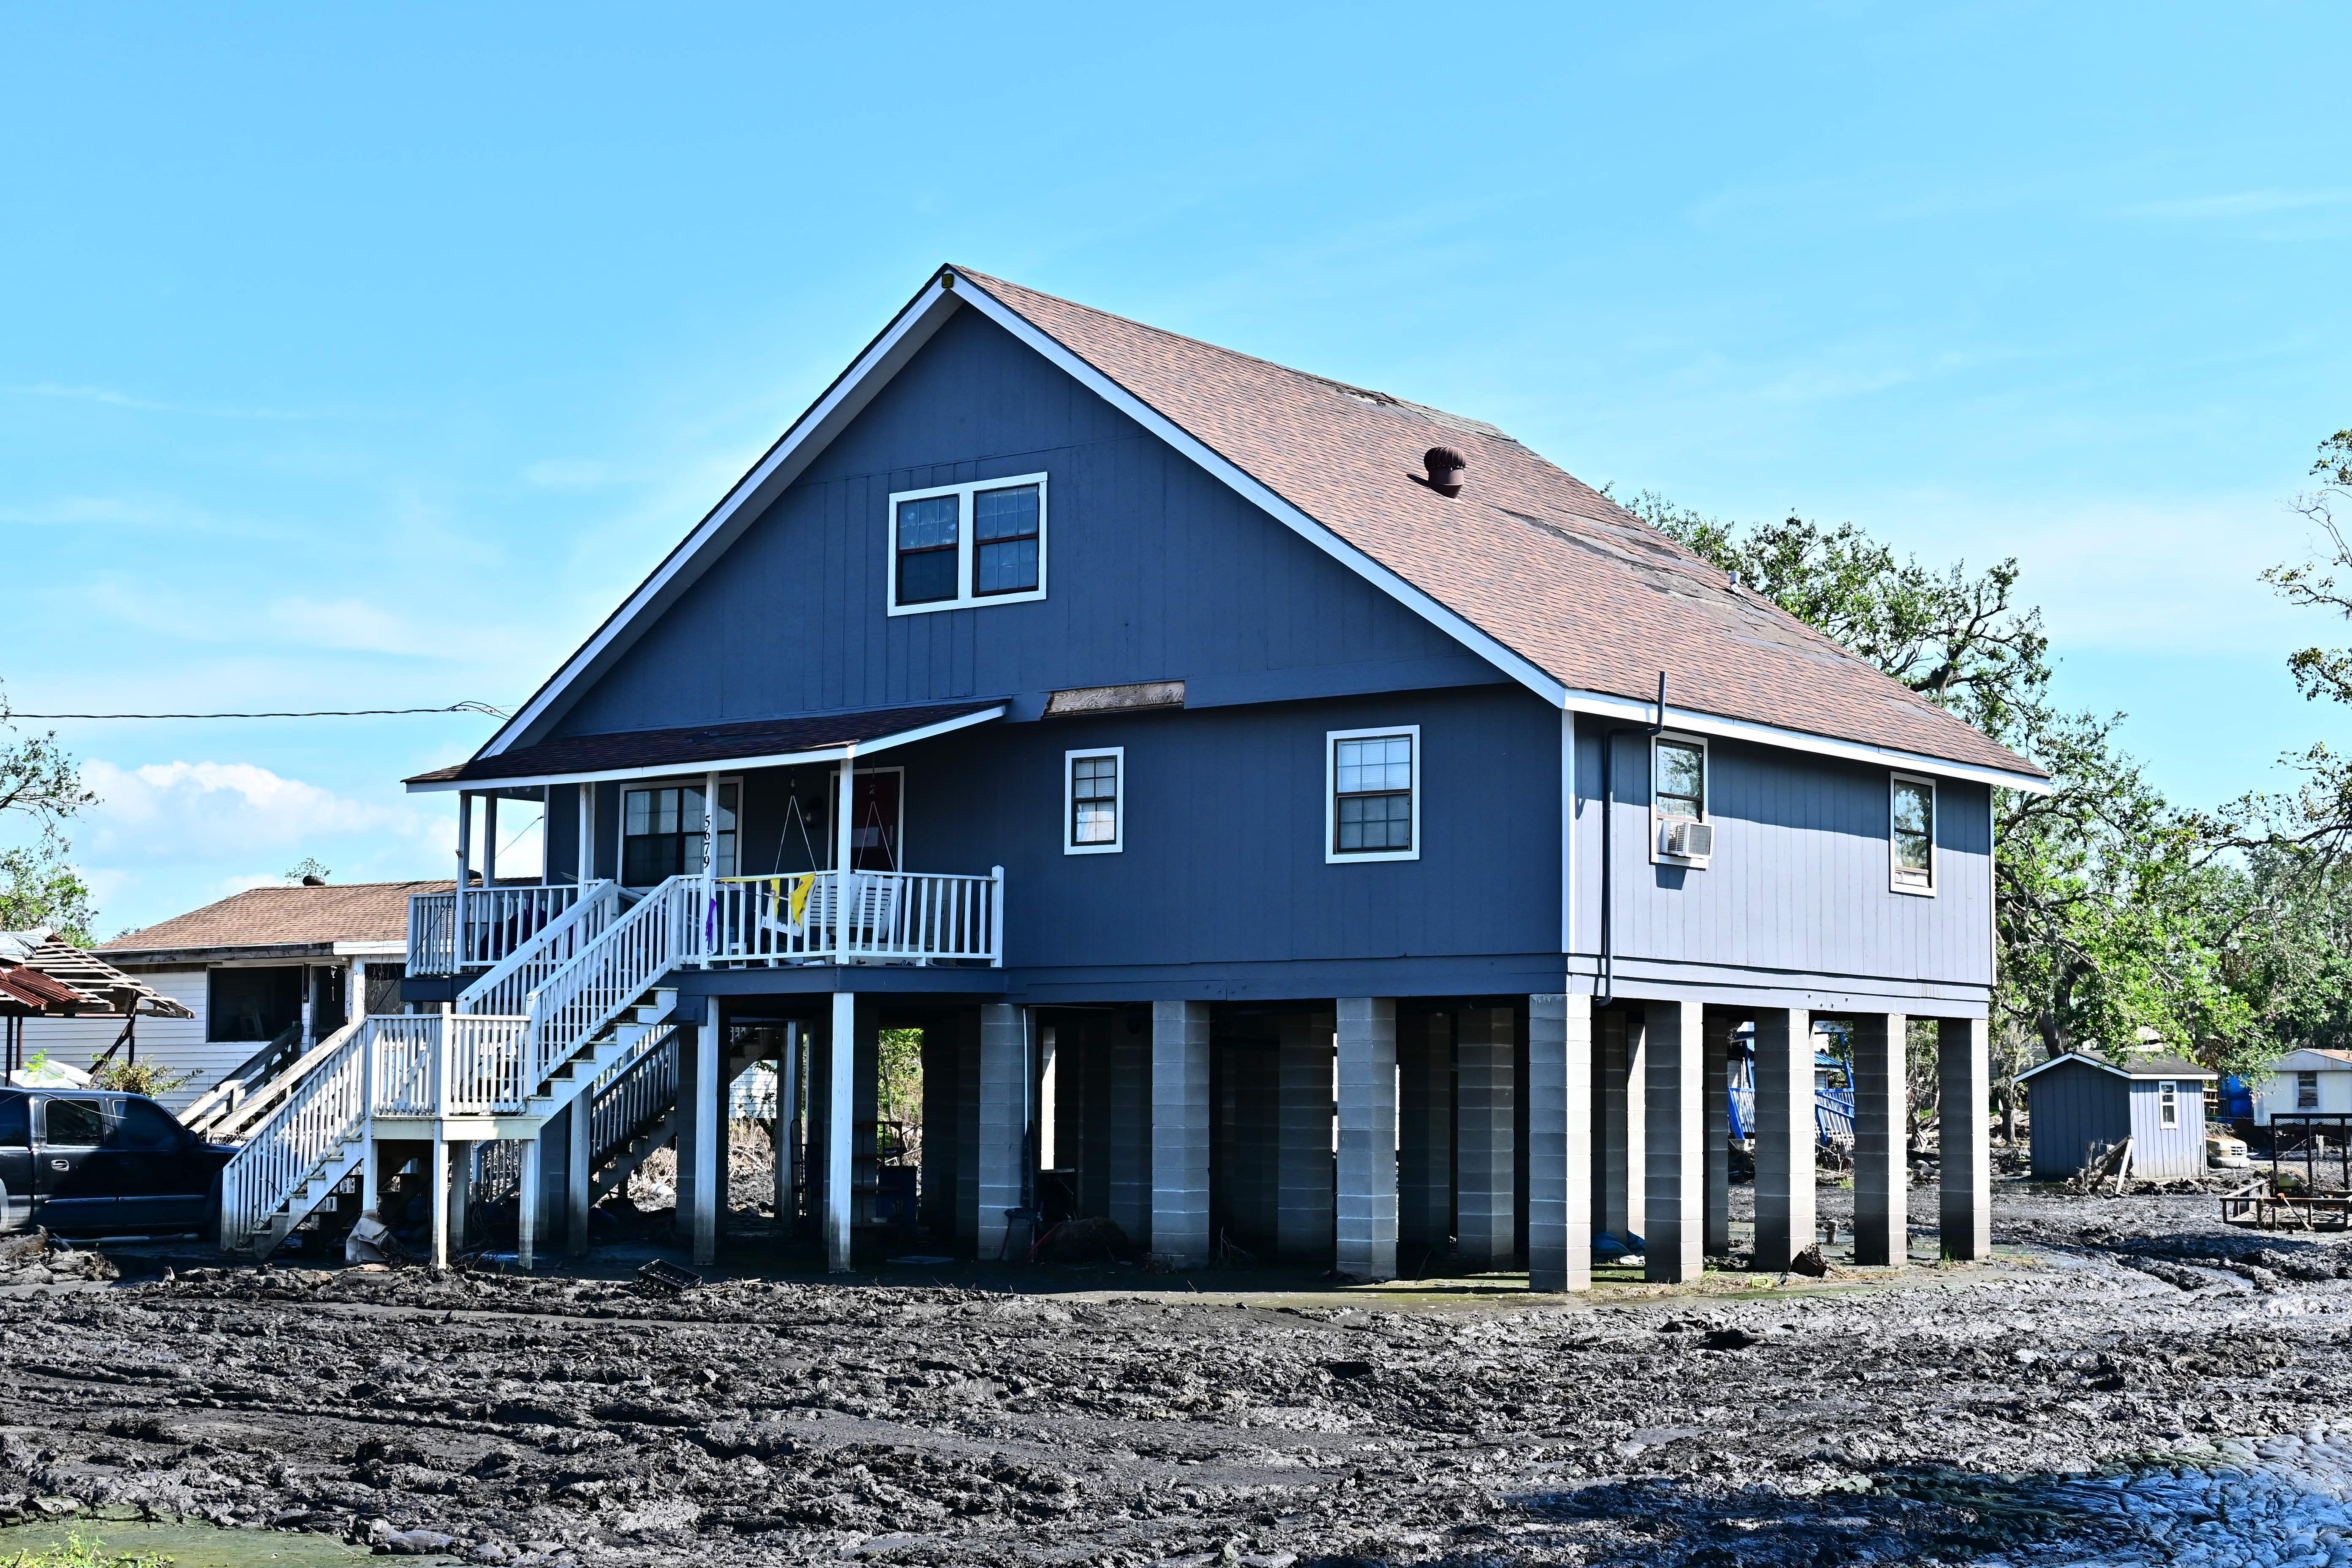affected: (348, 182, 1995, 1300)
